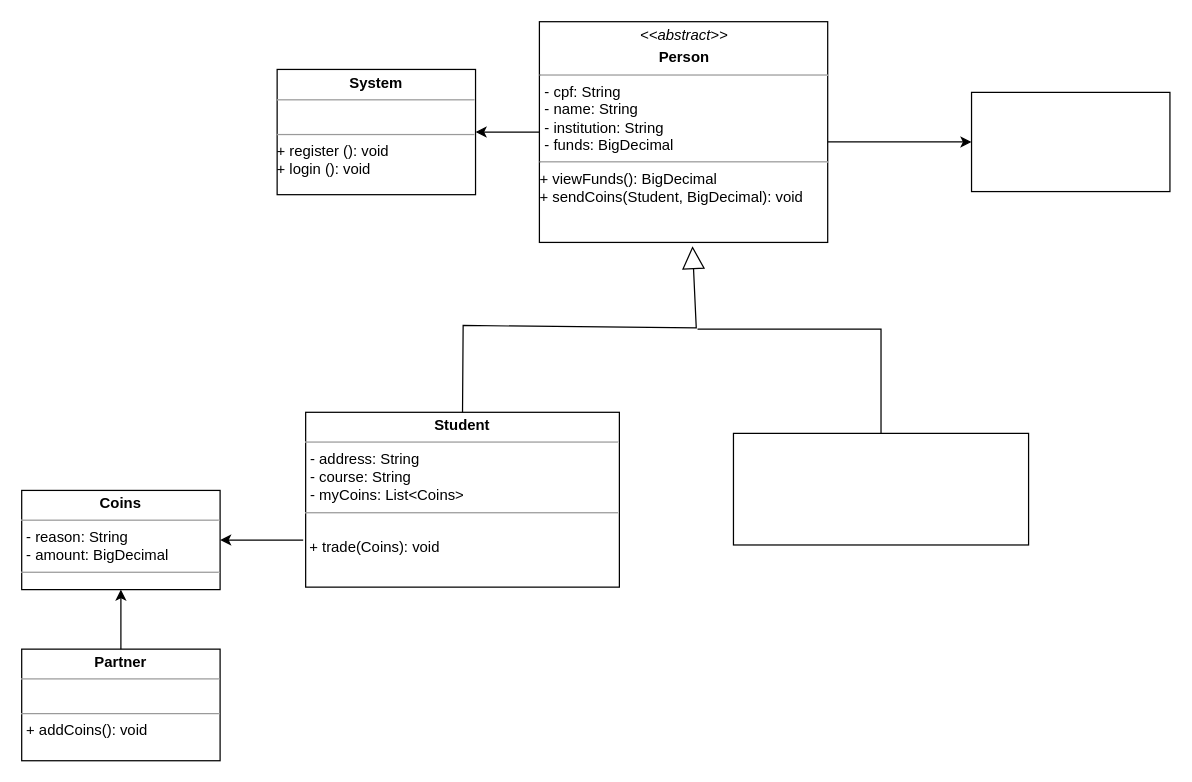
Image size: 1192x782. Some labels were removed from this diagram. Here are the shapes that lost their labels. From the top down, the centre of each, then its label:
At point (1070, 141): "Transaction - amount: BigDecimal - reason: String".
At point (880, 488): "Teacher - department: String".
